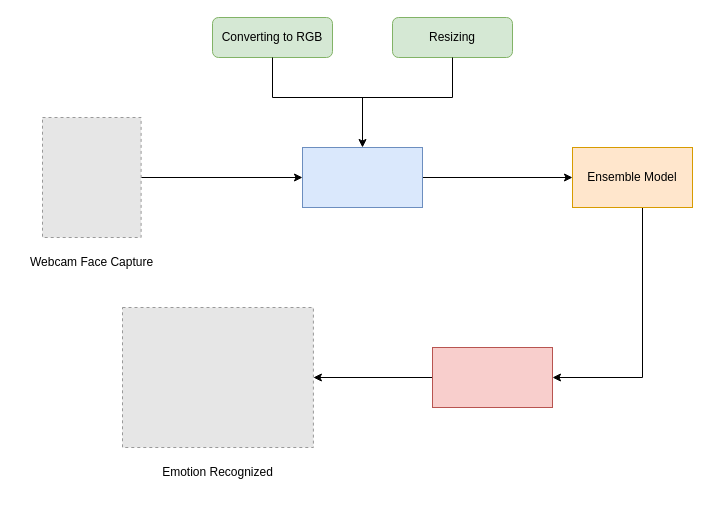
Some shapes in this 711 by 505 pixel diagram are drawn without their labels. Grey dashed boxes stand in for pictures. Each missing label, with the box of its shape:
Maximum Voting Technique: (432, 346, 552, 408)
Preprocessing: (302, 146, 422, 208)
